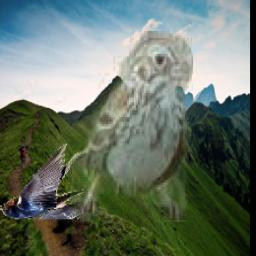Sparrow: (67, 31, 194, 222)
Swallow: (0, 143, 85, 219)
